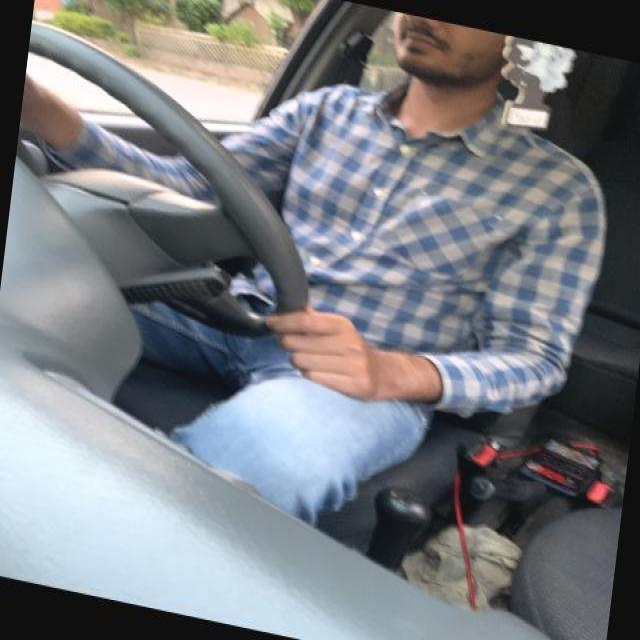no-seatbelt: (278, 114, 569, 433)
